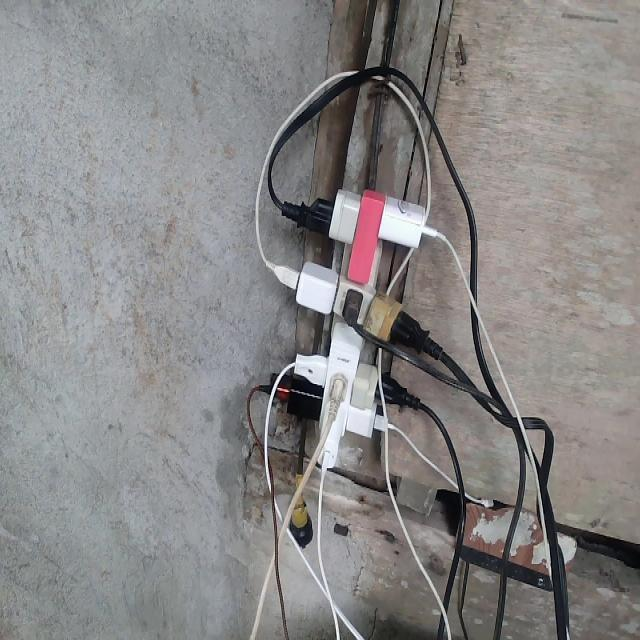-: (258, 188, 445, 472)
